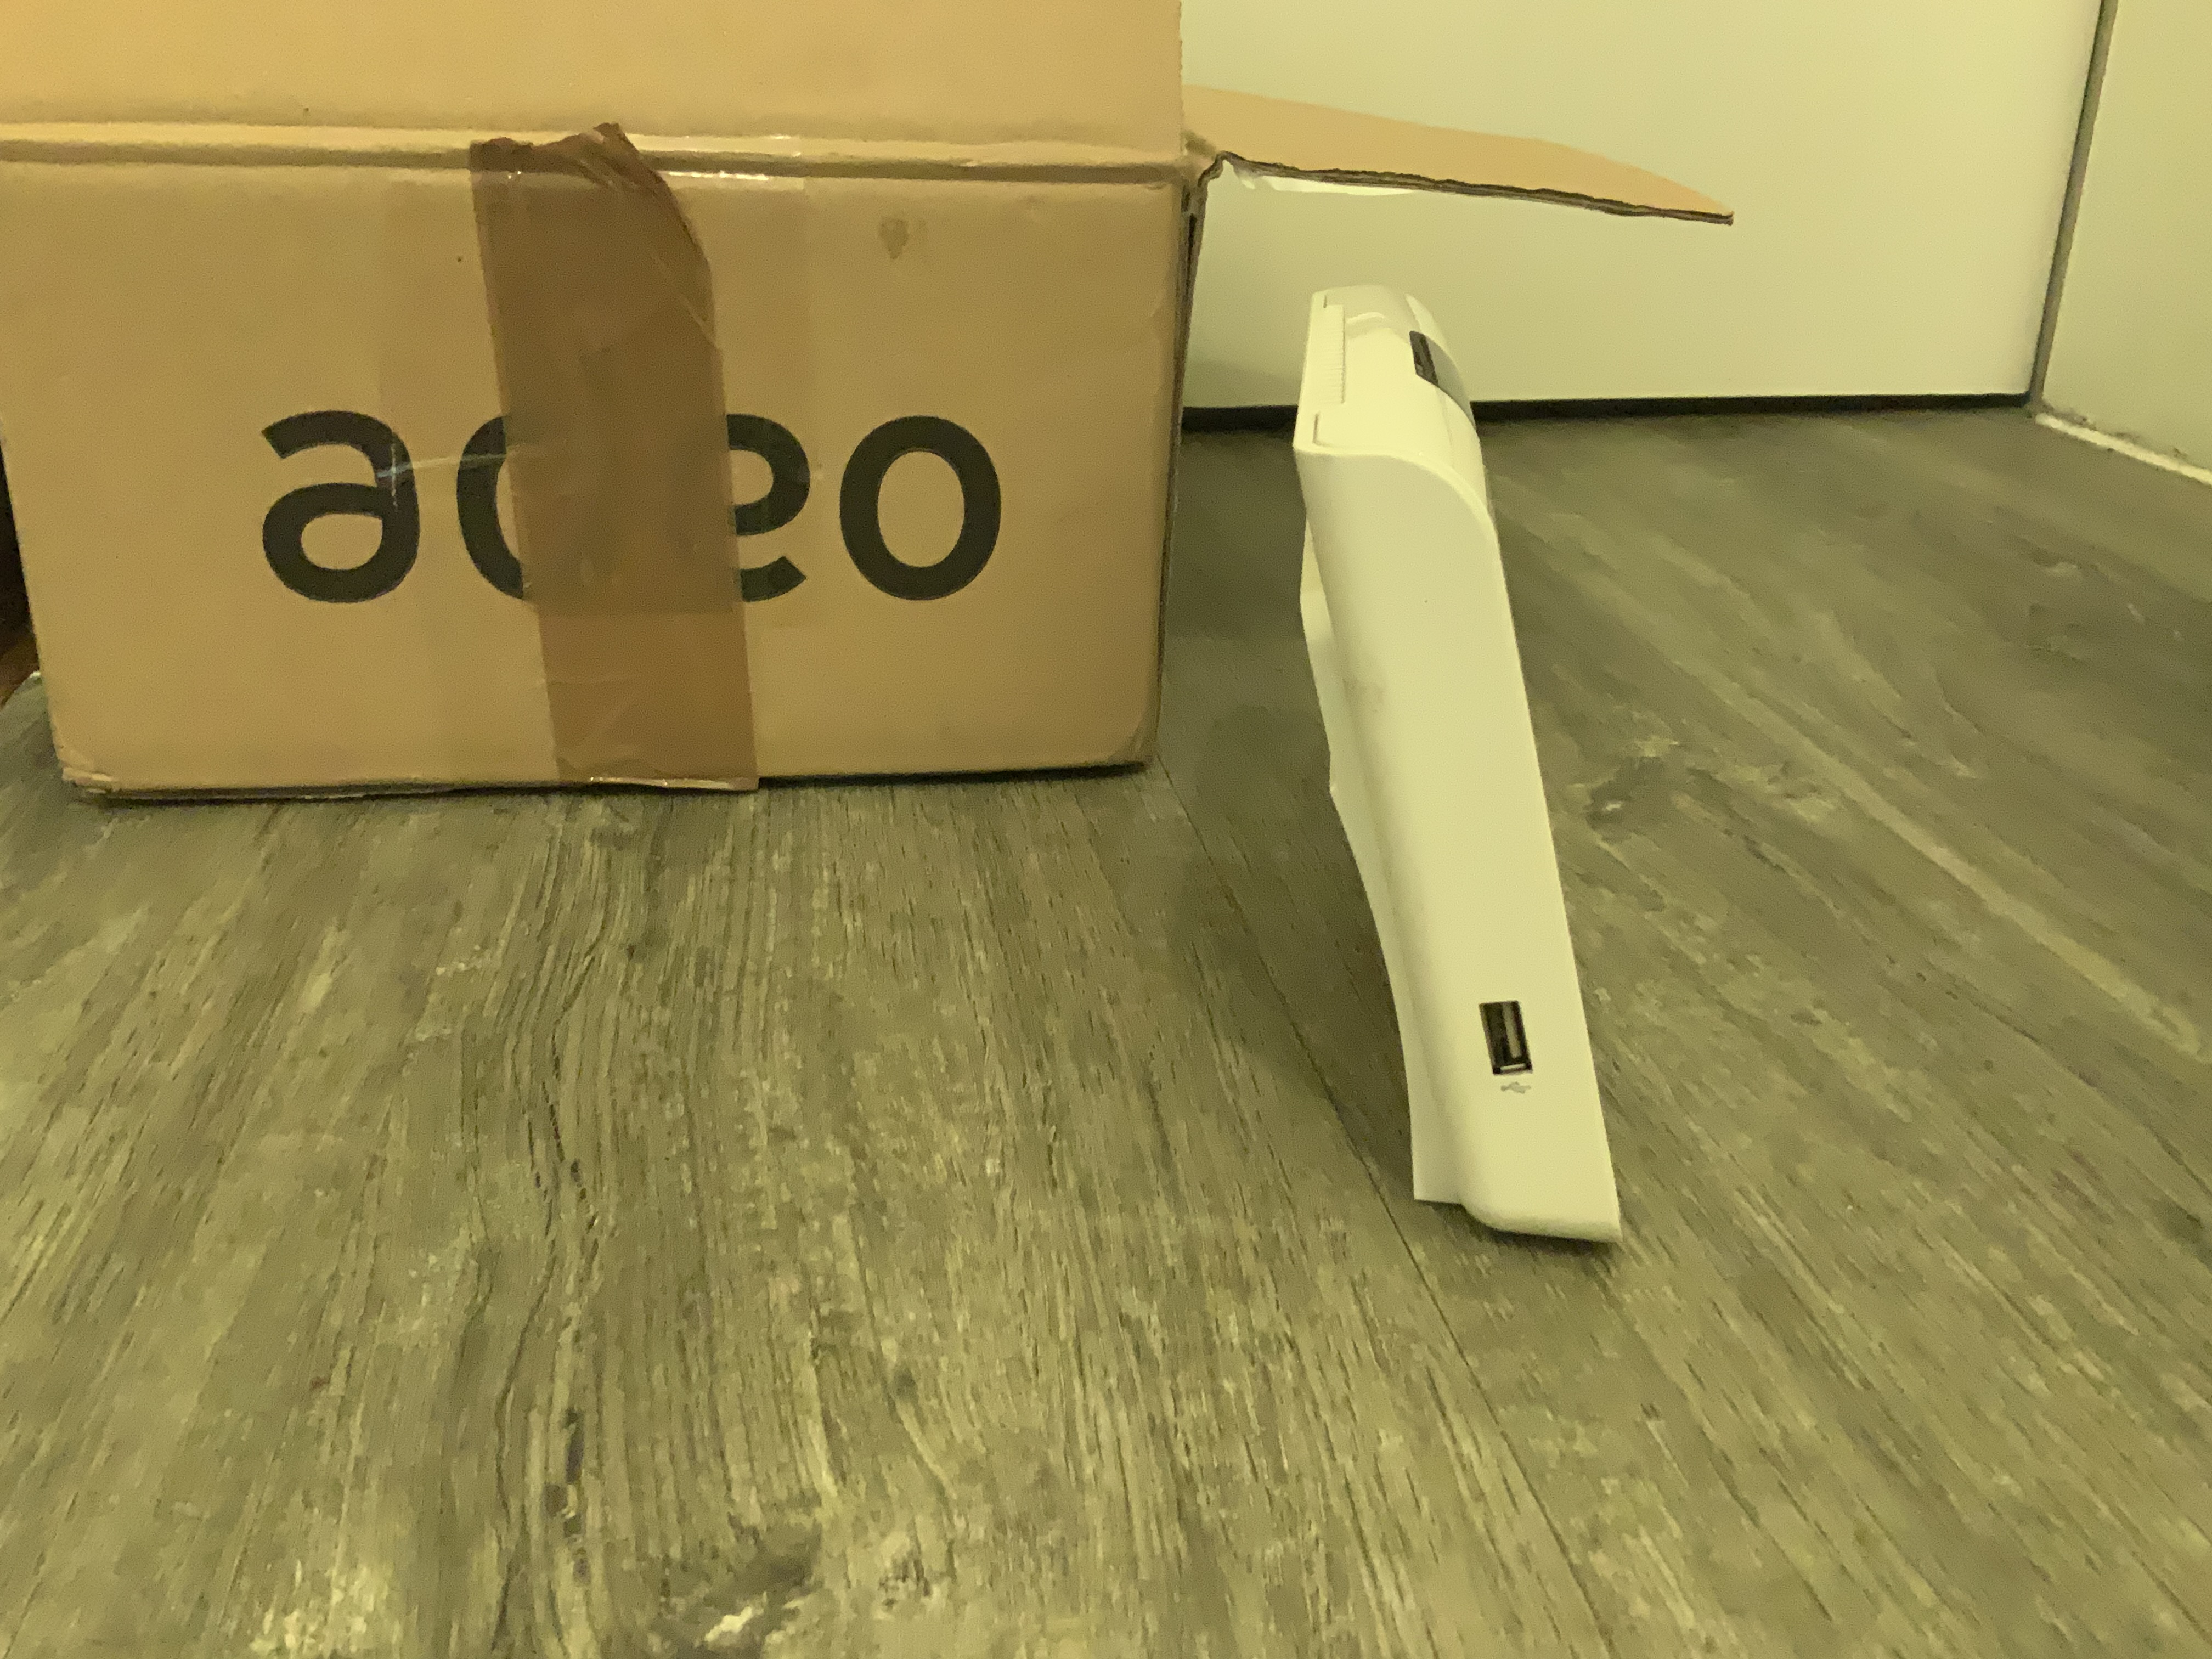Router2: (1285, 275, 1629, 1255)
